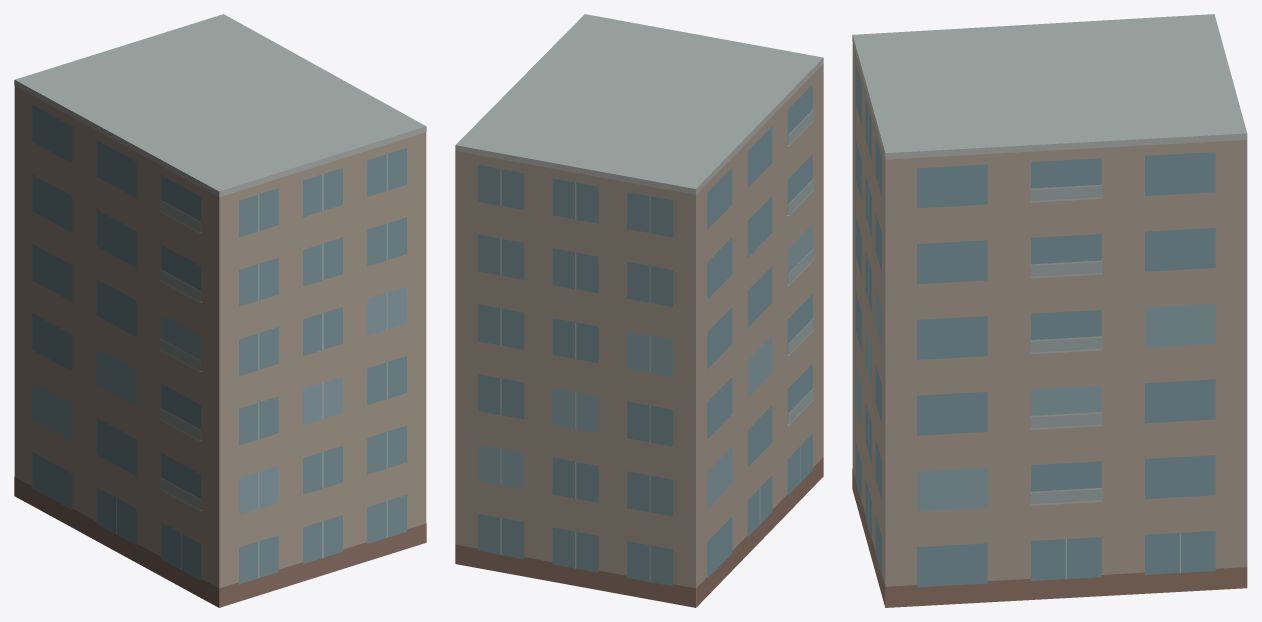
Rendered from survey-upis-32934803.glb.
The picture shows the model from 3 angles, left to right: view 1: azimuth 30°, elevation 25°; view 2: azimuth 150°, elevation 25°; view 3: azimuth 270°, elevation 25°; orthographic projection. The views are drawn at different scales.
Visible parts, largest first — view 1: survey-upis-32934803.tmp; view 2: survey-upis-32934803.tmp; view 3: survey-upis-32934803.tmp.
Part boxes in pixels (<box>): survey-upis-32934803.tmp: <box>14,14,426,607</box>; survey-upis-32934803.tmp: <box>455,14,823,607</box>; survey-upis-32934803.tmp: <box>852,14,1247,607</box>.
Bounding box in the file's own units: 11.5 × 17.5 × 13.78.
